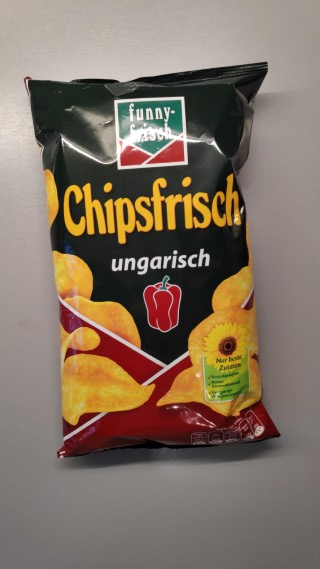chipsfrisch: (21, 57, 284, 461)
